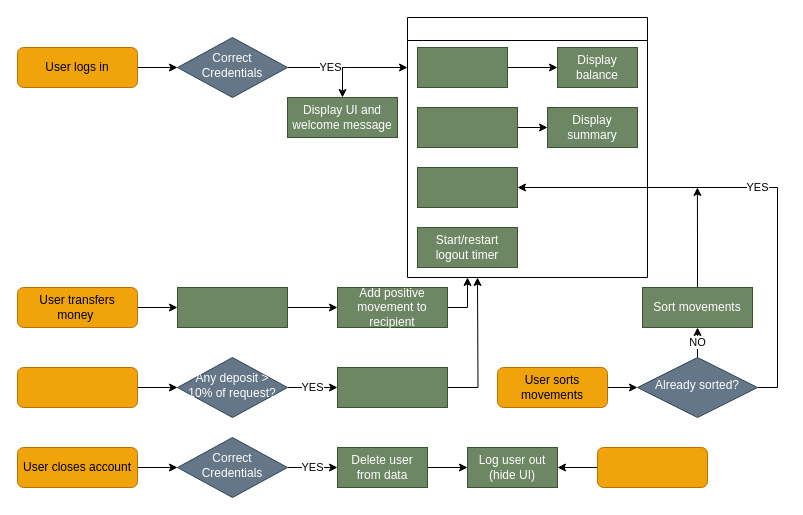
The diagram is 803 pixels wide and 515 high, and some of its shapes have lost their labels. Here are the shapes that lost their labels. From the top down, the box of each, then its label:
(416, 46, 508, 88): Calculate balance
(416, 106, 518, 148): Calculate summary
(406, 16, 648, 278): Update UI
(416, 166, 518, 208): Display movements
(176, 286, 288, 328): Add negative movement to current user
(16, 366, 138, 408): User requests loan
(336, 366, 448, 408): Add positive movement to current user
(596, 446, 708, 488): User timer expires
